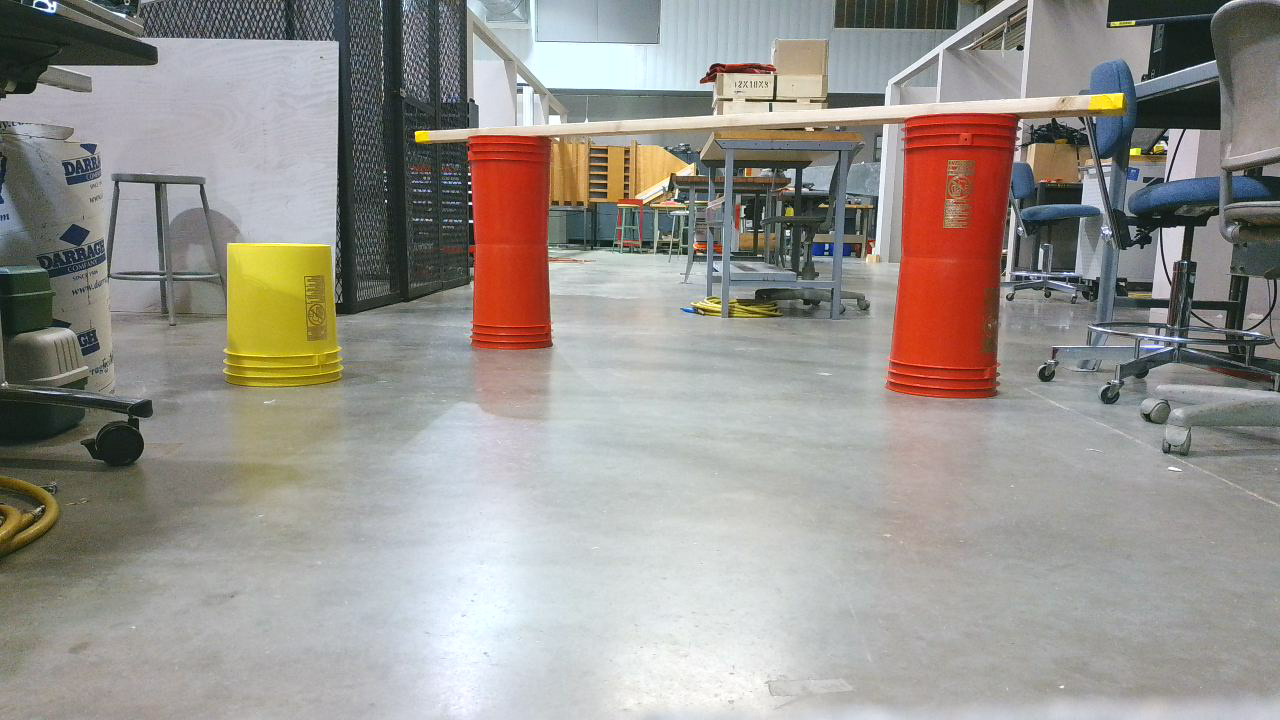red_bucket_arch: (417, 114, 1092, 404)
yellow_bucket: (224, 243, 351, 400)
